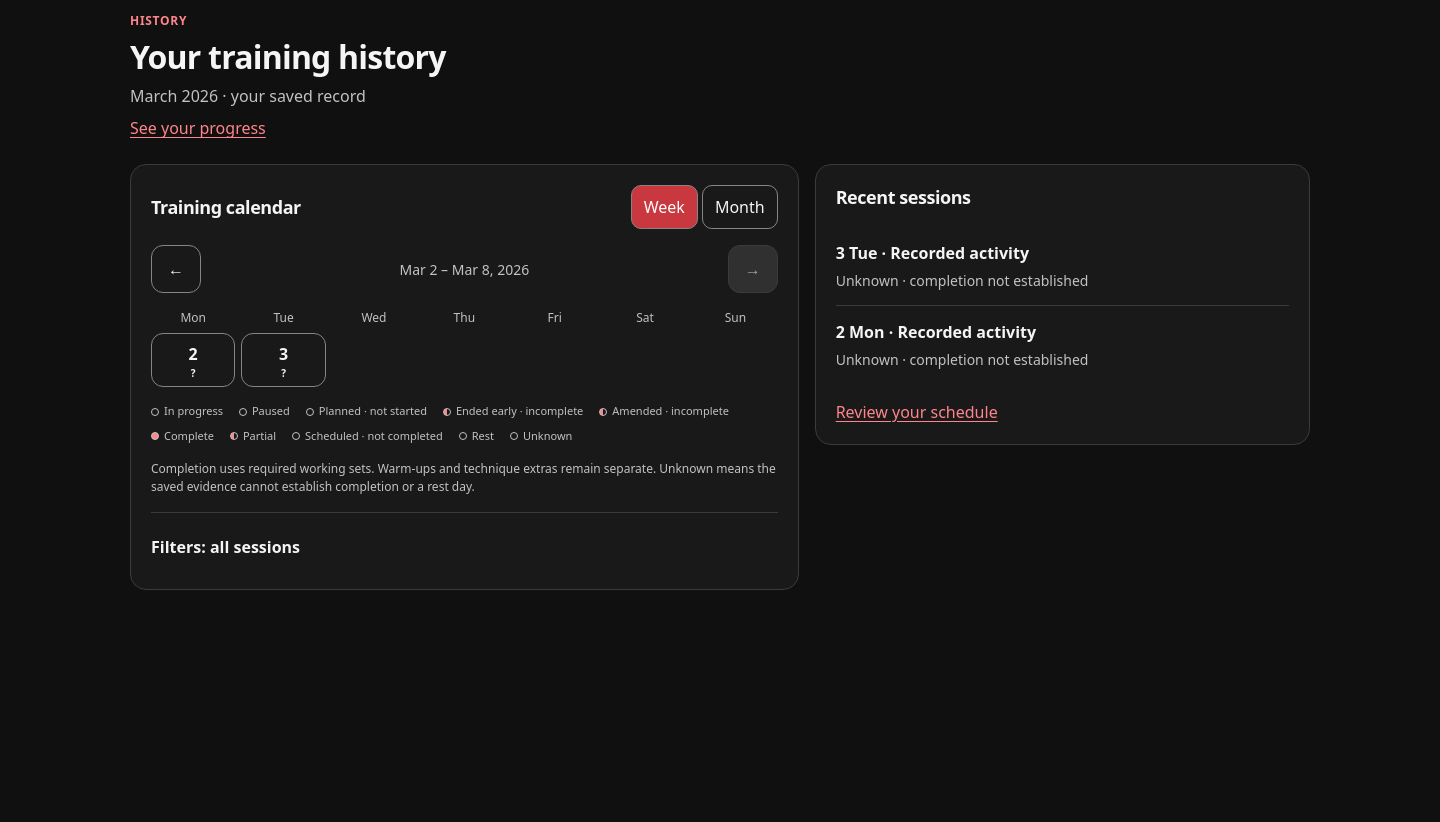
prior day receipts preserve units, unknown effort and correction lineage without inventing completion
This screenshot has width=1440, height=822.
Click the button named "2026-03-02: Unknown": (193, 360) [151,333,235,387]
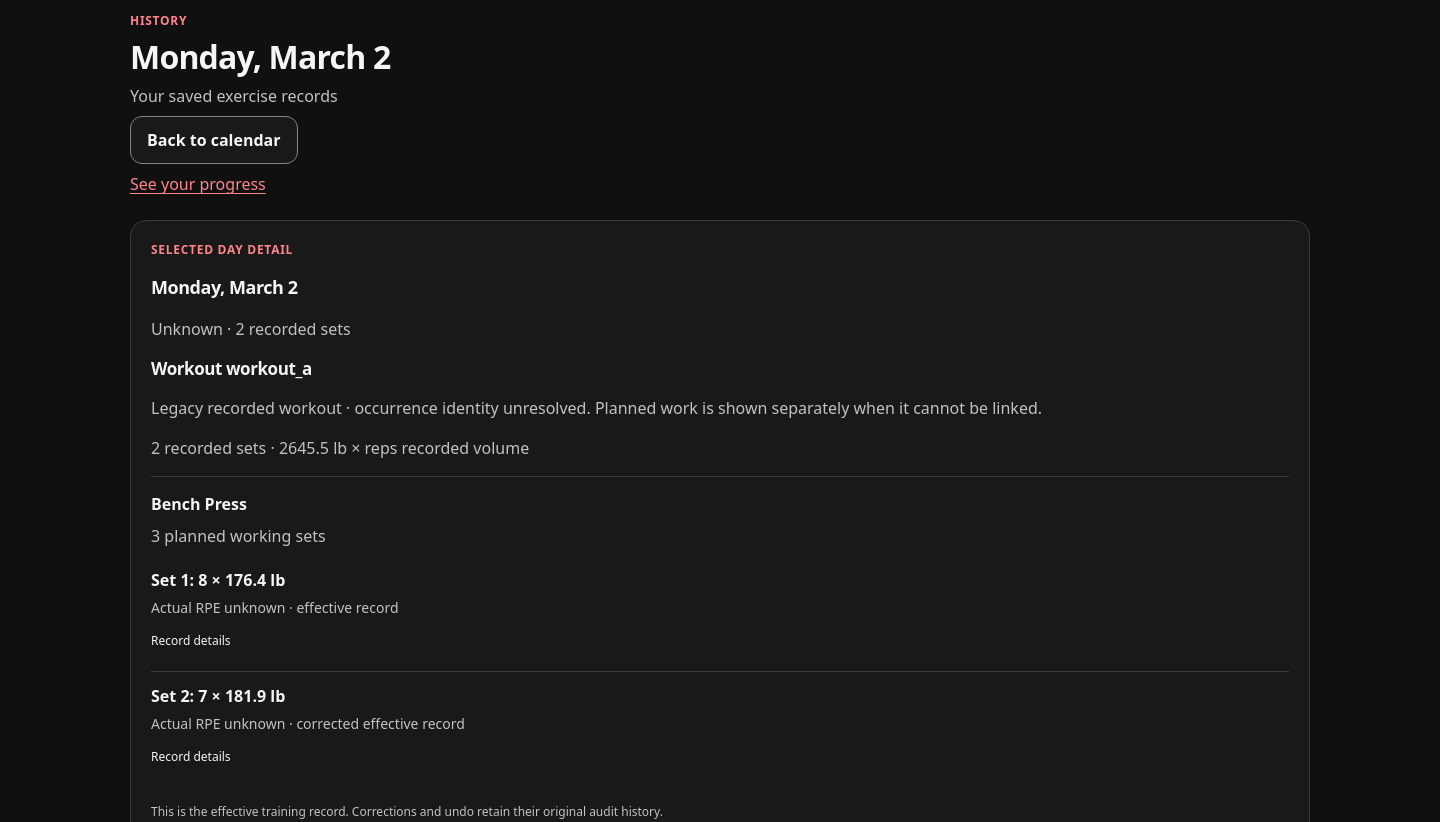
Now the heading "Workout workout_a" is shown, box [151,357,312,380]
Now the heading "Bench Press" is shown, box [151,493,247,515]
Now the text "3 planned working sets" is shown, box [151,525,326,547]
